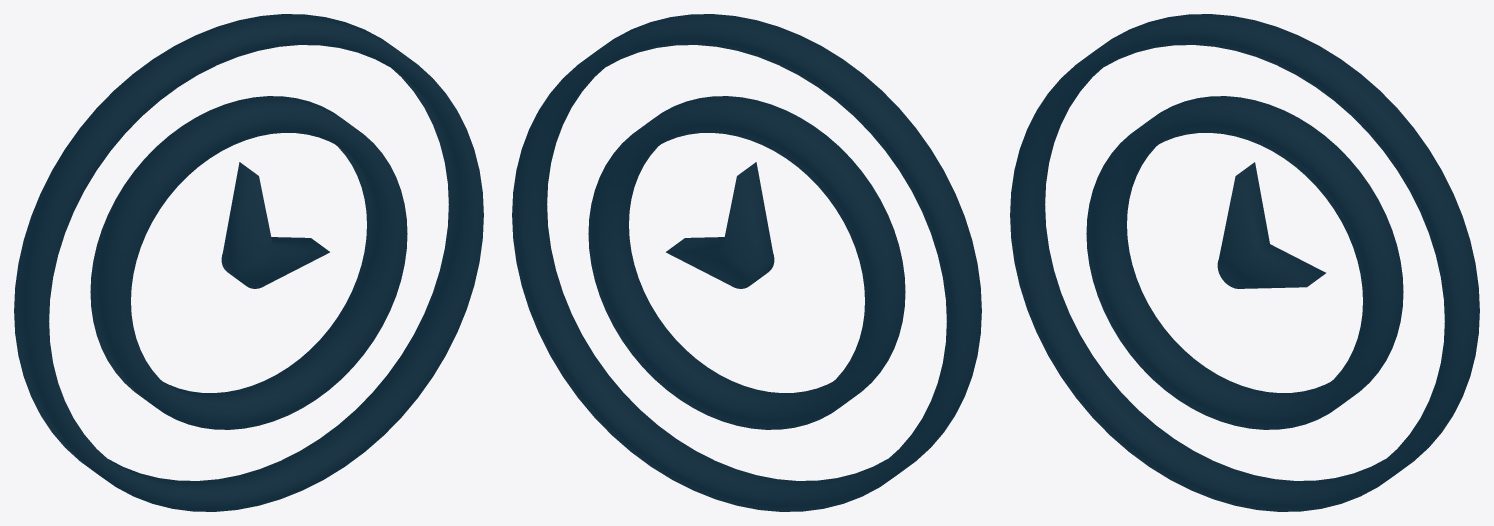
File: timer1.gltf
The picture shows the model from 3 angles, left to right: view 1: azimuth 30°, elevation 25°; view 2: azimuth 150°, elevation 25°; view 3: azimuth 330°, elevation 25°; orthographic projection.
Visible parts, largest first — view 1: Circle.011, Circle.014, Circle.012; view 2: Circle.011, Circle.014, Circle.012; view 3: Circle.011, Circle.014, Circle.012.
Part boxes in pixels (x1,y1,x2,y2): Circle.011: (14, 14, 483, 511); Circle.014: (90, 96, 407, 429); Circle.012: (221, 162, 329, 288); Circle.011: (512, 14, 981, 511); Circle.014: (588, 96, 905, 429); Circle.012: (666, 162, 774, 288); Circle.011: (1010, 14, 1479, 511); Circle.014: (1086, 96, 1403, 429); Circle.012: (1217, 162, 1325, 288).
Bounding box in the file's own units: 2 × 2 × 0.15.
